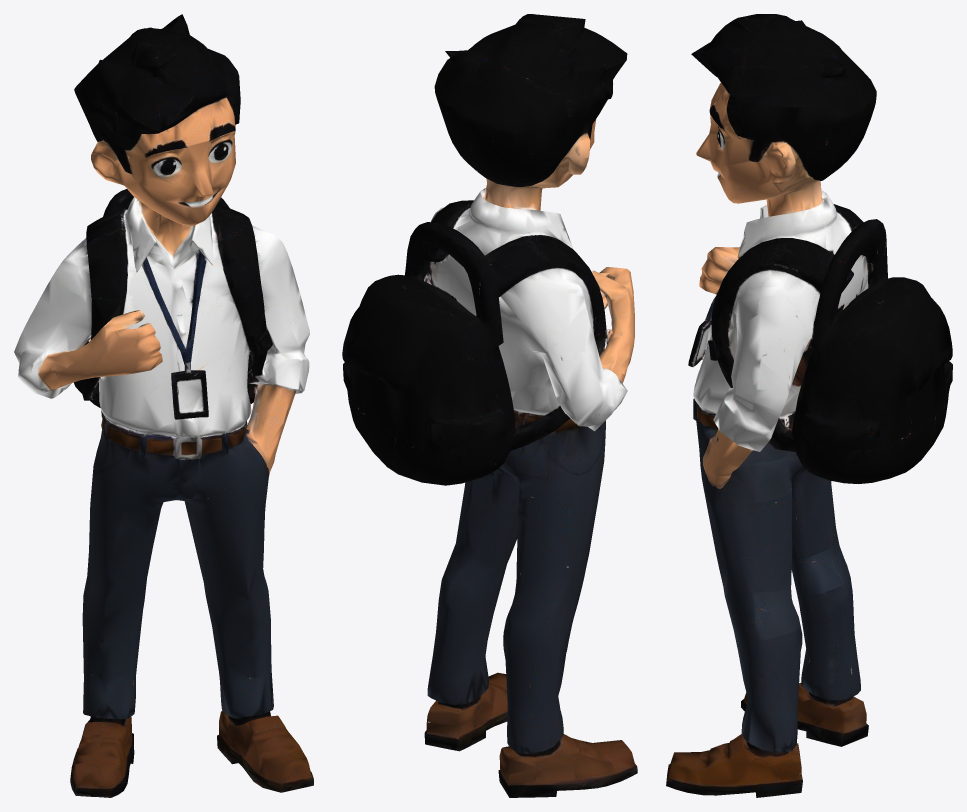
Rendered from man.glb.
3 renders of one model, left to right at view 1: azimuth 30°, elevation 25°; view 2: azimuth 150°, elevation 25°; view 3: azimuth 270°, elevation 25°, orthographic. The views are drawn at different scales.
Bounding box in the file's own units: 0.6917 × 1.9 × 0.6854.
Materials: 1 (1 with a texture image).
